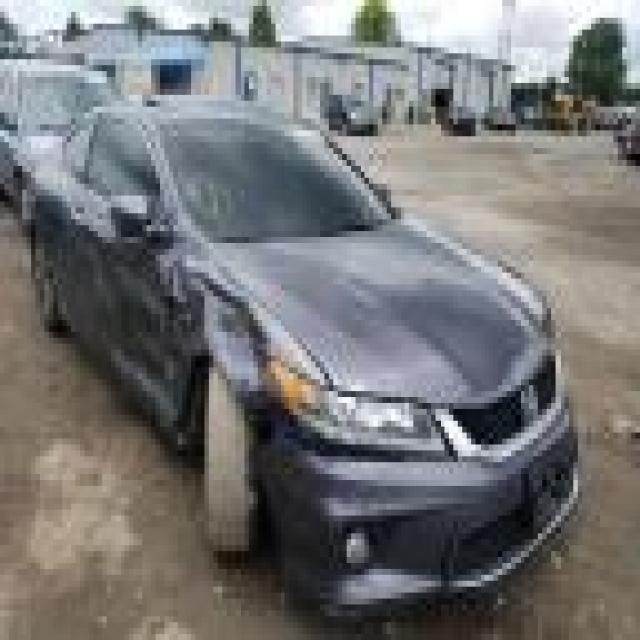moderate: (146, 237, 300, 453)
